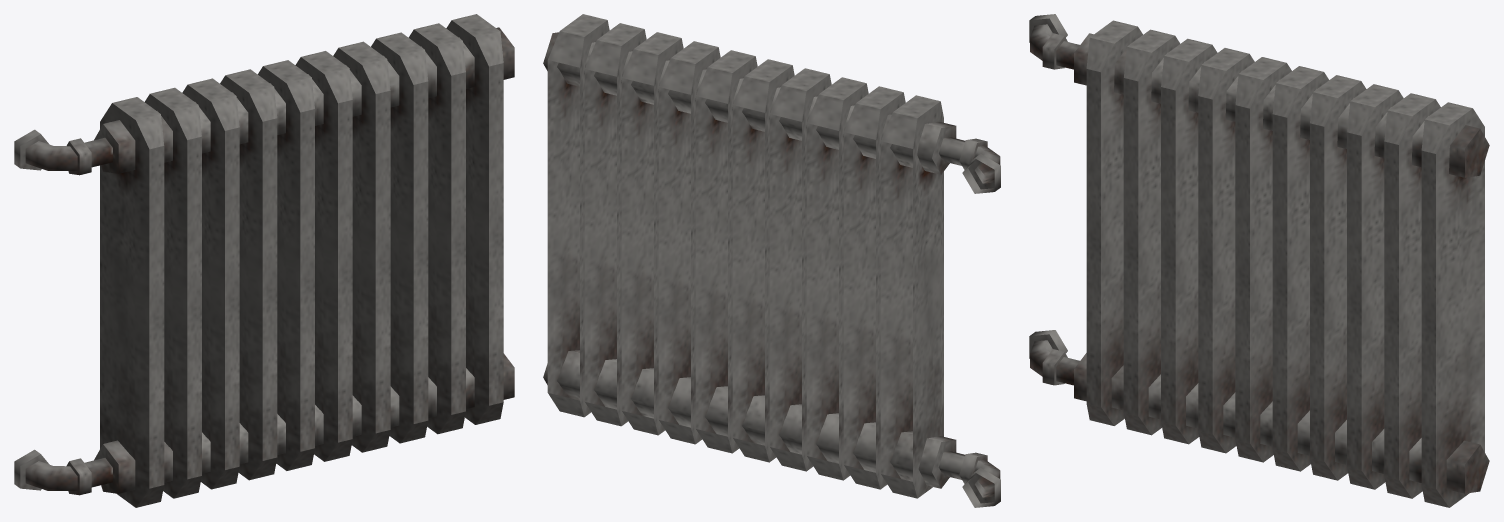
Rendered from radiator.fbx.
3 renders of one model, left to right at view 1: azimuth 30°, elevation 25°; view 2: azimuth 150°, elevation 25°; view 3: azimuth 330°, elevation 25°, orthographic.
Visible parts, largest first — view 1: radiator; view 2: radiator; view 3: radiator.
Boxes of the visible parts, x1,y1,x2,y2 form: radiator: (14, 14, 514, 507); radiator: (543, 14, 1000, 507); radiator: (1029, 14, 1489, 507).
Size of the model in its own units: 78.04 by 61.78 by 12.04.
Materials: 1 (1 with a texture image).
